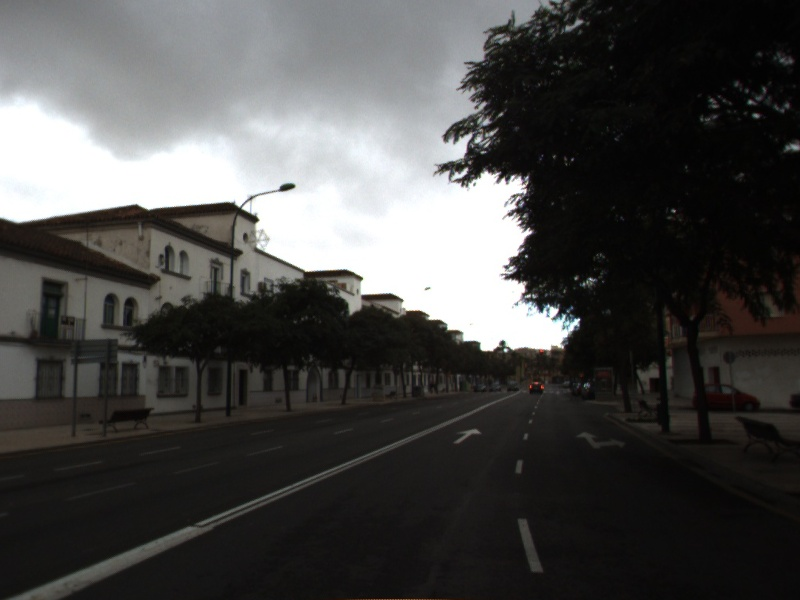STRAIGHT: (451, 427, 484, 445)
STRAIGHT_RIGHT: (574, 430, 627, 450)
